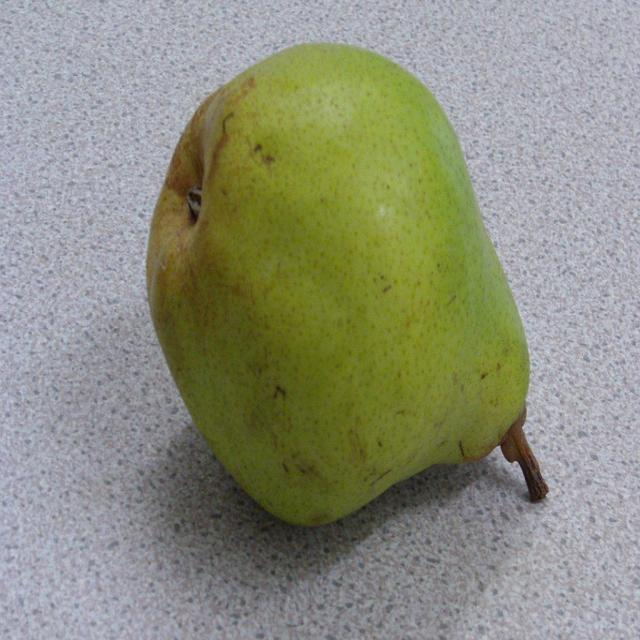Pear: (145, 39, 547, 537)
